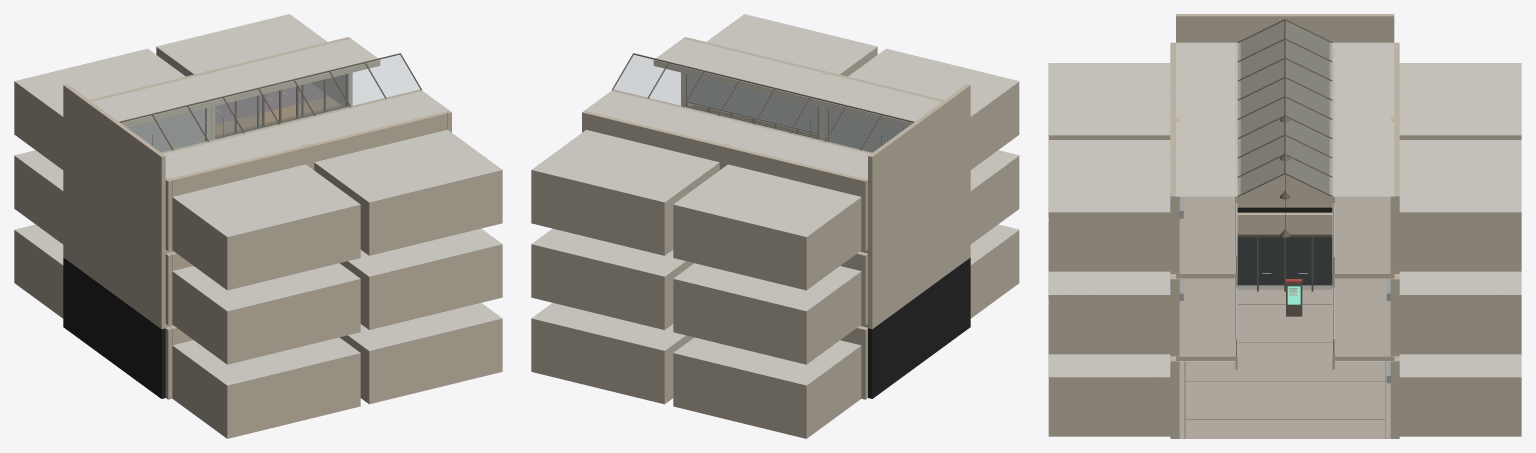
The model's file is entrance.glb.
3 views of the same model, side by side, from view 1: azimuth 30°, elevation 25°; view 2: azimuth 150°, elevation 25°; view 3: azimuth 270°, elevation 25° (orthographic). The views are drawn at different scales.
Parts seen in each view (by area): view 1: entrance; view 2: entrance; view 3: entrance.
Part boxes in pixels (x1,y1,x2,y2): entrance: (14, 14, 502, 438); entrance: (531, 14, 1019, 438); entrance: (1048, 14, 1521, 438).
Size of what is drawn, in the model's own units: 20.33 by 16.3 by 26.01.
